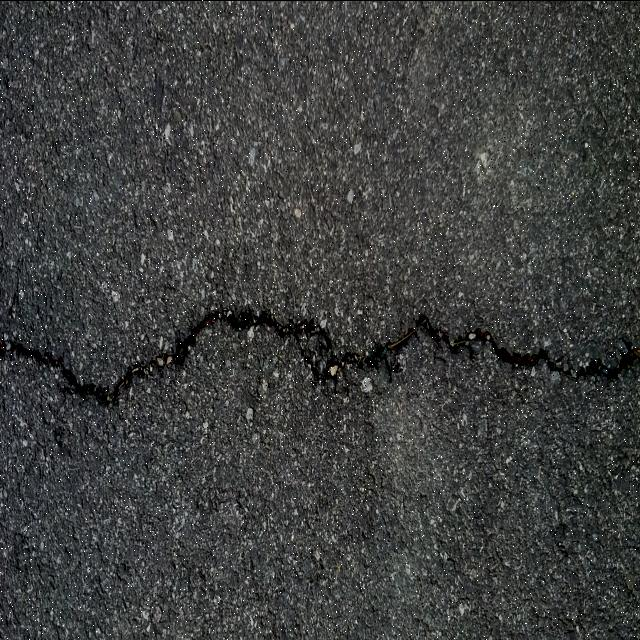Crack: (0, 304, 640, 407)
